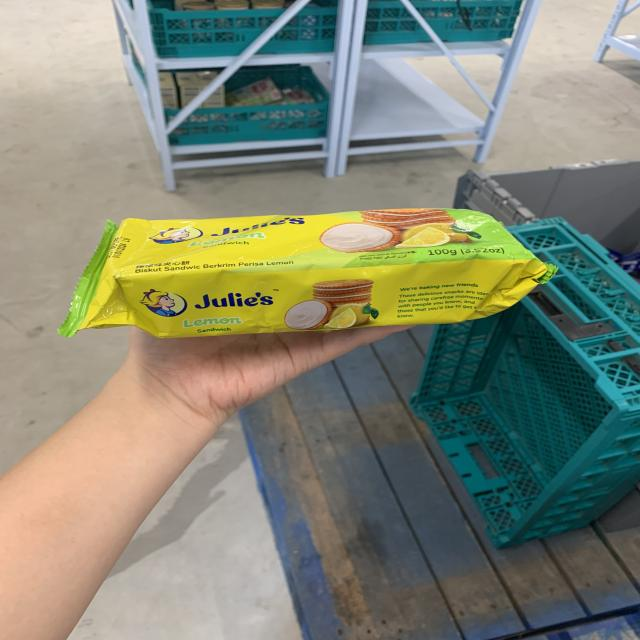object_name: (108, 211, 514, 327)
